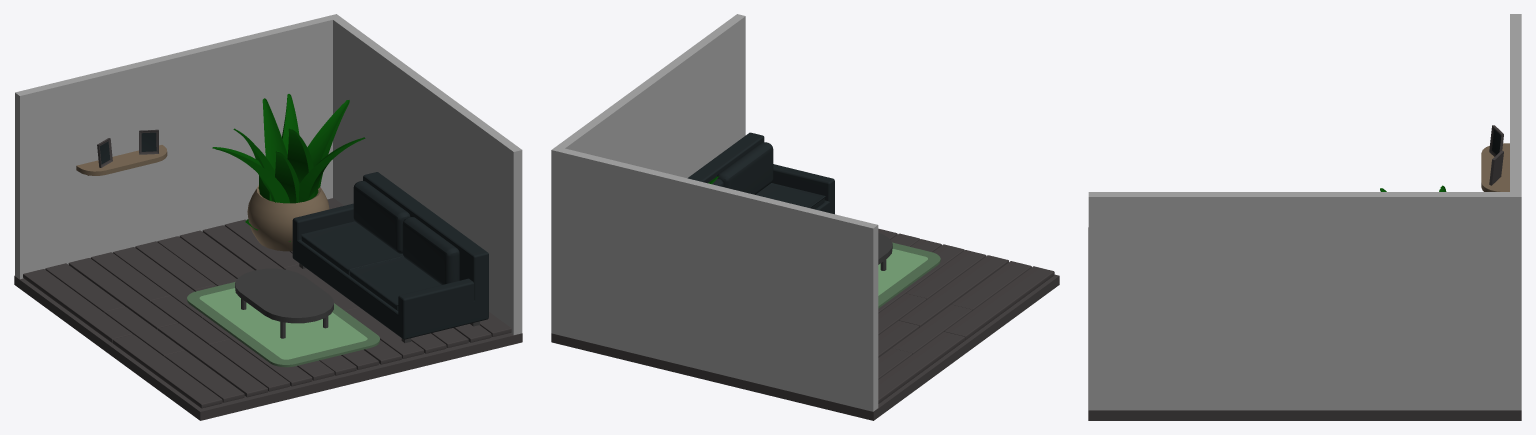
File: cp1-vfinal.fbx
The picture shows the model from 3 angles, left to right: view 1: azimuth 30°, elevation 25°; view 2: azimuth 150°, elevation 25°; view 3: azimuth 270°, elevation 25°; orthographic projection. The views are drawn at different scales.
Visible parts, largest first — view 1: Parede, Sofá, Tapete, Chao, pCube9 (×6), pCube1, Almofada, pCylinder3, Almofada3, Almofada1, Almofada2, Madeira1 (+23 smaller); view 2: Parede, Chao, Sofá, Madeira1, Tapete, Madeira6, Madeira, Almofada3, Madeira4, Madeira7, Madeira3, Almofada1 (+4 smaller); view 3: Parede, Chao, pCube6.
Boxes of the visible parts, x1,y1,x2,y2 form: Parede: (15, 14, 522, 334); Sofá: (292, 172, 488, 339); Tapete: (187, 282, 379, 367); Chao: (14, 275, 522, 420); pCube9 (×6): (233, 94, 365, 241); pCube1: (235, 268, 333, 323); Almofada: (301, 221, 403, 275); pCylinder3: (247, 185, 329, 251); Almofada3: (402, 217, 459, 284); Almofada1: (349, 256, 441, 310); Almofada2: (353, 181, 410, 253); Madeira1: (112, 334, 222, 408); Parede: (551, 14, 878, 411); Chao: (551, 274, 1059, 420); Sofá: (687, 132, 834, 214); Madeira1: (944, 266, 1054, 340); Tapete: (878, 242, 940, 308); Madeira6: (899, 255, 1008, 327); Madeira: (878, 332, 964, 403); Almofada3: (717, 142, 773, 194); Madeira4: (951, 261, 1031, 310); Madeira7: (906, 250, 986, 299); Madeira3: (892, 304, 972, 354); Almofada1: (755, 183, 825, 209); Parede: (1088, 14, 1521, 410); Chao: (1088, 227, 1521, 420); pCube6: (1481, 143, 1509, 191).
Bounding box in the file's own units: 15 × 8.55 × 15.
